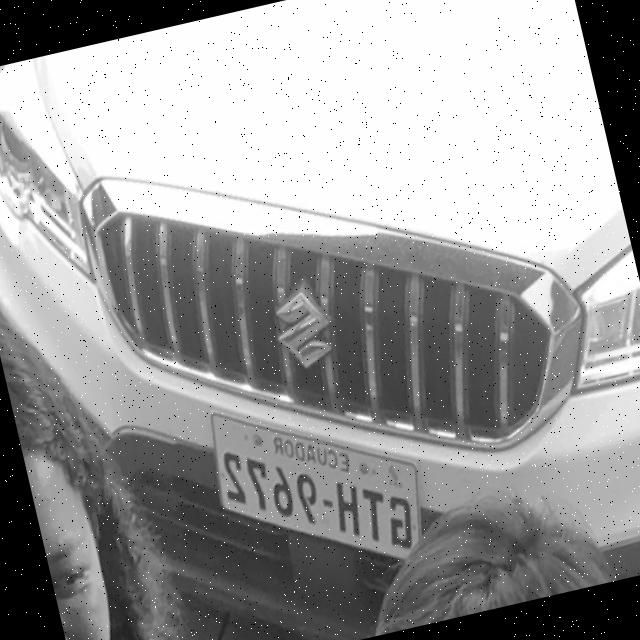Placa: (211, 415, 419, 558)
